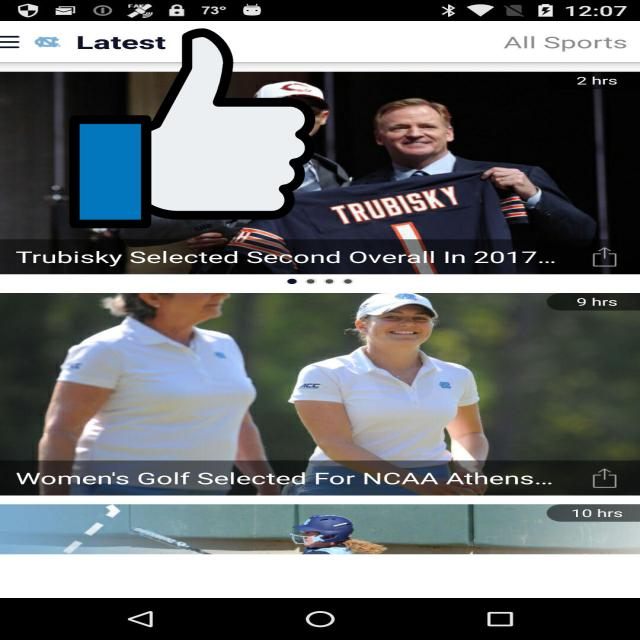privacy zuckering: (70, 24, 316, 233)
